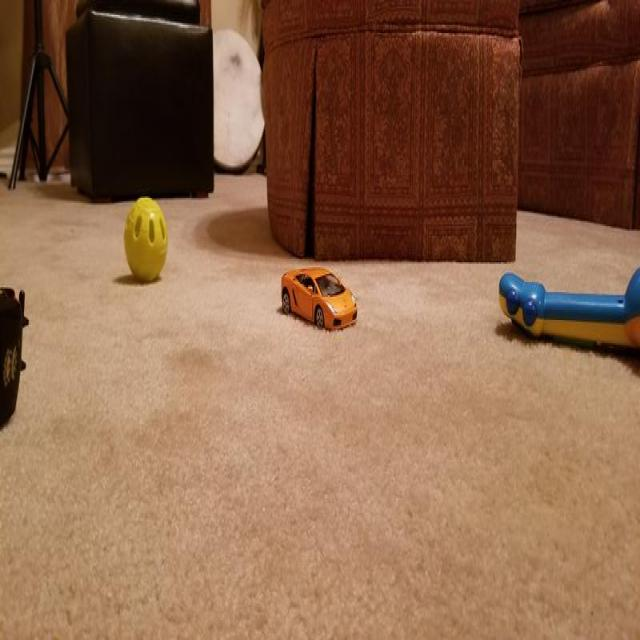toy: (498, 260, 640, 376), (280, 258, 360, 332), (126, 198, 170, 281)
